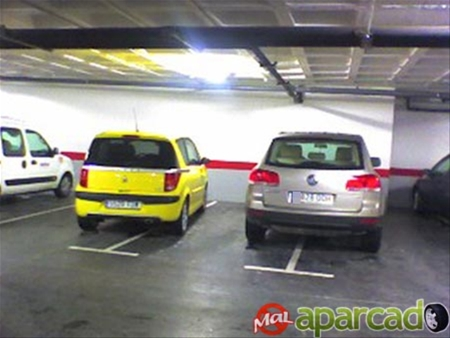car: (240, 127, 395, 247), (70, 130, 224, 234), (1, 112, 73, 216)
